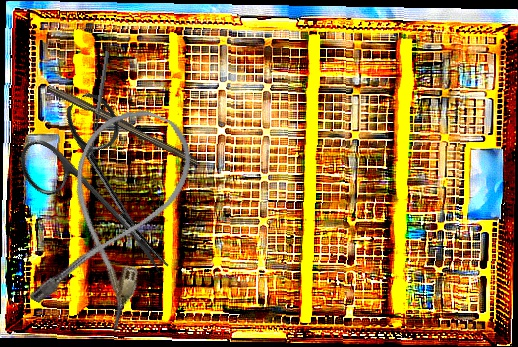Cannula: (22, 94, 205, 337)
Iris Scissors: (7, 86, 210, 303)
Scalpel Handle: (45, 82, 201, 166)
Spatula Surgical: (88, 51, 114, 159)
